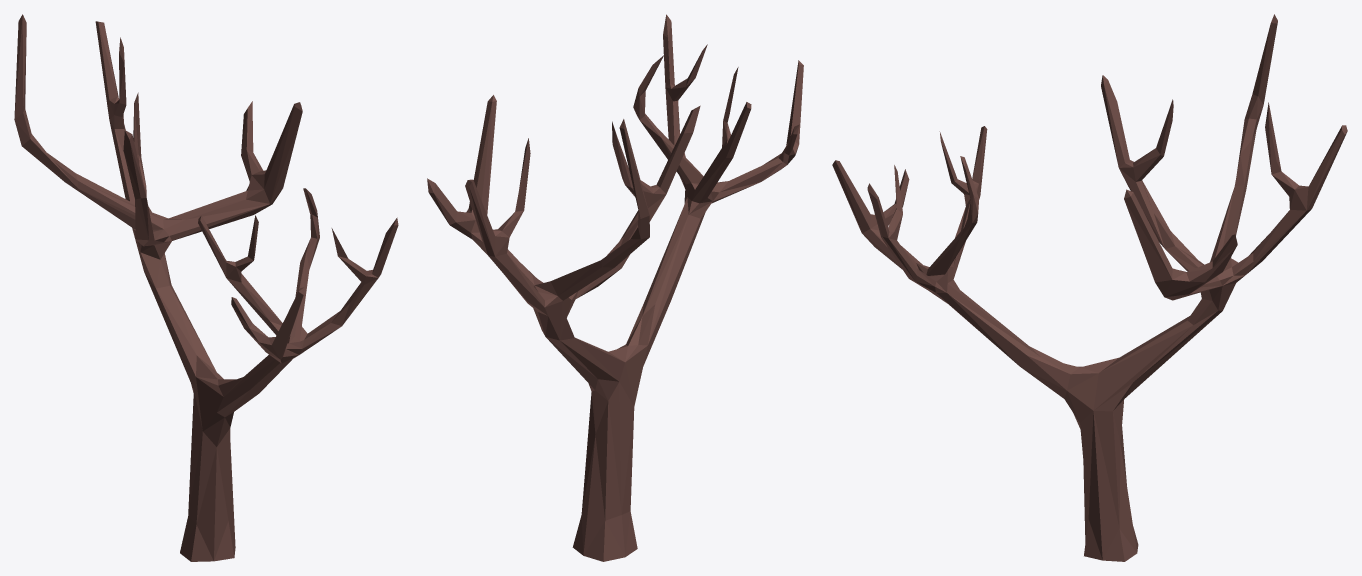
Rendered from CommonTree_Dead_1.lod2.glb.
3 views of the same model, side by side, from view 1: azimuth 30°, elevation 25°; view 2: azimuth 150°, elevation 25°; view 3: azimuth 270°, elevation 25° (orthographic). The views are drawn at different scales.
Parts seen in each view (by area): view 1: CommonTree_Dead_1; view 2: CommonTree_Dead_1; view 3: CommonTree_Dead_1.
Part boxes in pixels (bbox=[...]): CommonTree_Dead_1: bbox=[14, 14, 398, 561]; CommonTree_Dead_1: bbox=[427, 14, 803, 561]; CommonTree_Dead_1: bbox=[832, 14, 1347, 561].
Size of the model in its own units: 1.05 by 2.22 by 2.12.
